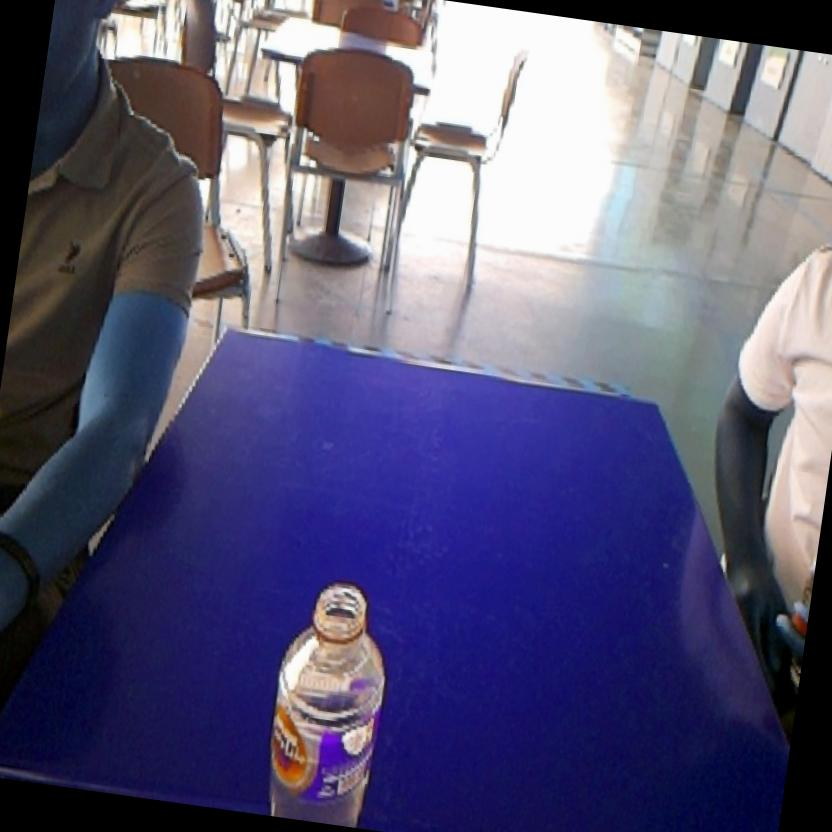no_cap: (244, 560, 409, 828)
